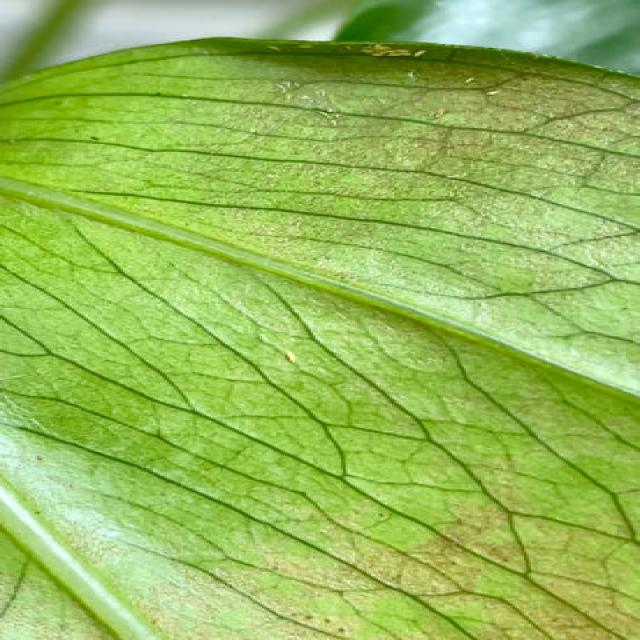Thrip-Group-: (245, 23, 552, 132)
